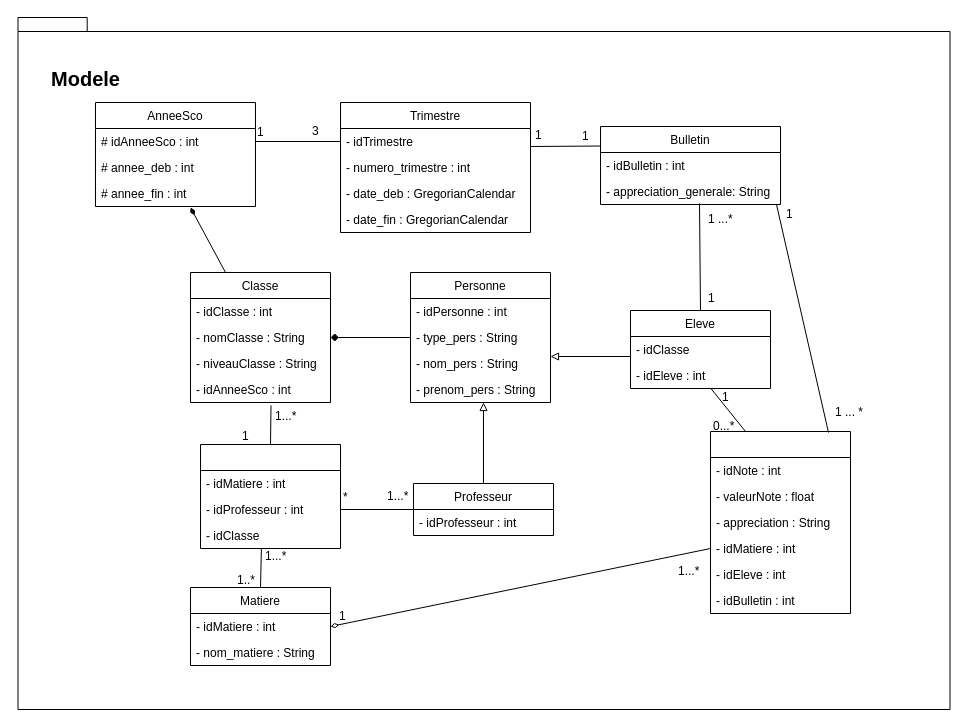
Some shapes in this 967 by 727 pixel diagram are drawn without their labels. The box of each missing label's shape, as (x1, y1, x2, y2) in pixels:
Enseigner: (200, 444, 340, 548)
Notes: (710, 430, 850, 614)
